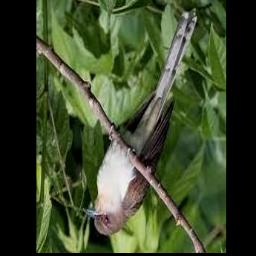Cuckoo: (84, 7, 197, 236)
